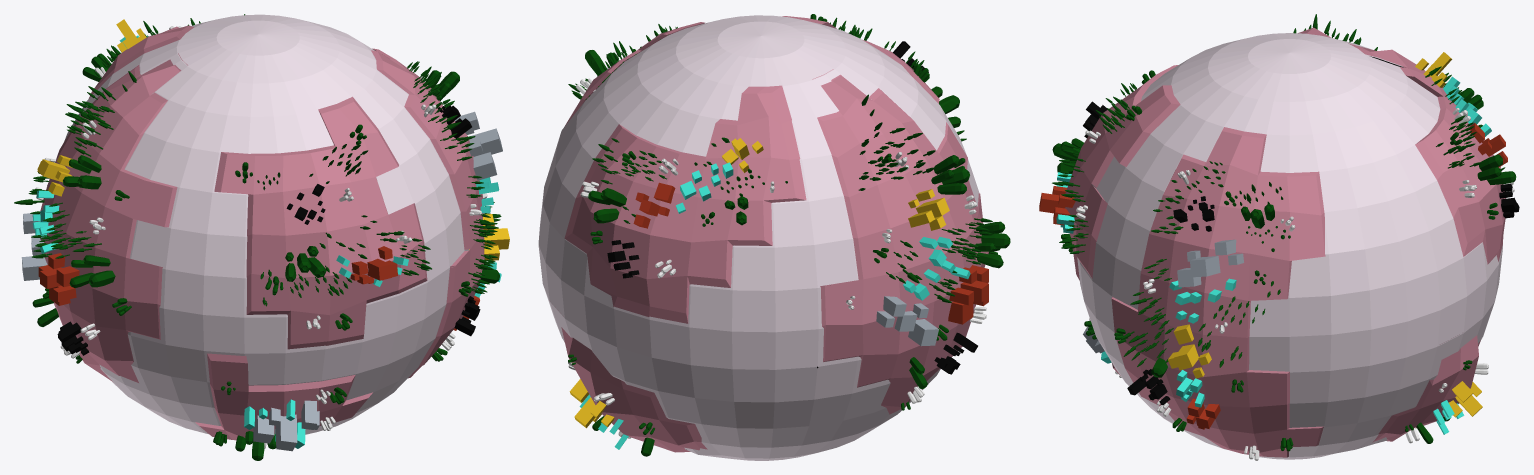
File: CandyPlanet.fbx
3 views of the same model, side by side, from view 1: azimuth 30°, elevation 25°; view 2: azimuth 150°, elevation 25°; view 3: azimuth 270°, elevation 25° (orthographic). The views are drawn at different scales.
Visible parts, largest first — view 1: Water.005, World.011, PlantA3.005, City3.006, PlantB2.005, City1.006, City4.006, City5.006, PlantB3.005, PlantB1.005, PlantA1.005, City2.006 (+1 smaller); view 2: Water.005, World.011, PlantA3.005, City2.006, City1.006, City4.006, PlantA2.005, City3.006, PlantB3.005, City5.006, PlantB2.005, PlantA1.005 (+1 smaller); view 3: Water.005, World.011, City4.006, PlantA3.005, PlantB2.005, City2.006, City5.006, City1.006, City3.006, PlantA2.005, PlantA1.005, PlantB1.005 (+1 smaller).
Part boxes in pixels (left/top/right/bottom): Water.005: left=64, top=14, right=469, bottom=434; World.011: left=40, top=25, right=484, bottom=440; PlantA3.005: left=32, top=53, right=499, bottom=460; City3.006: left=21, top=111, right=502, bottom=451; PlantB2.005: left=14, top=18, right=498, bottom=297; City1.006: left=38, top=246, right=479, bottom=330; City4.006: left=32, top=35, right=501, bottom=448; City5.006: left=57, top=105, right=480, bottom=355; PlantB3.005: left=43, top=14, right=497, bottom=263; PlantB1.005: left=32, top=21, right=501, bottom=306; PlantA1.005: left=38, top=89, right=471, bottom=446; City2.006: left=37, top=19, right=509, bottom=260; Water.005: left=538, top=15, right=979, bottom=460; World.011: left=549, top=16, right=988, bottom=452; PlantA3.005: left=585, top=50, right=1010, bottom=456; City2.006: left=569, top=138, right=949, bottom=428; City1.006: left=633, top=182, right=988, bottom=324; City4.006: left=579, top=162, right=970, bottom=449; PlantA2.005: left=568, top=78, right=986, bottom=438; City3.006: left=597, top=67, right=938, bottom=346; PlantB3.005: left=596, top=26, right=993, bottom=252; City5.006: left=607, top=41, right=977, bottom=374; PlantB2.005: left=585, top=17, right=981, bottom=299; PlantA1.005: left=568, top=14, right=1001, bottom=434; Water.005: left=1077, top=33, right=1502, bottom=459; World.011: left=1065, top=27, right=1505, bottom=457; City4.006: left=1056, top=76, right=1491, bottom=434; PlantA3.005: left=1052, top=88, right=1516, bottom=443; PlantB2.005: left=1052, top=28, right=1481, bottom=366; City2.006: left=1168, top=52, right=1482, bottom=417; City5.006: left=1083, top=101, right=1519, bottom=405; City1.006: left=1039, top=123, right=1507, bottom=429; City3.006: left=1083, top=239, right=1243, bottom=353; PlantA2.005: left=1076, top=108, right=1514, bottom=460; PlantA1.005: left=1061, top=40, right=1498, bottom=451; PlantB1.005: left=1059, top=25, right=1474, bottom=367.
Bounding box in the file's own units: 317 × 280 × 314.
